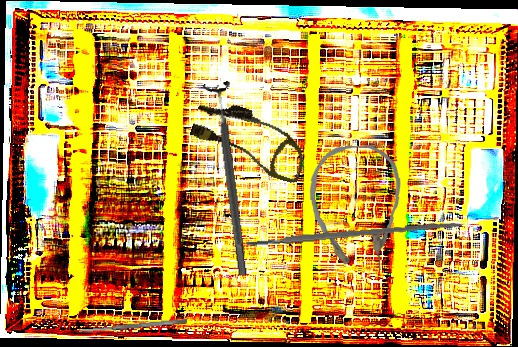Cannula: (306, 143, 406, 273), (185, 94, 314, 185)
Fixation Ring: (200, 80, 258, 278)
Scalpel Handle: (246, 219, 462, 248)
Spatula Surgical: (78, 318, 188, 334)
